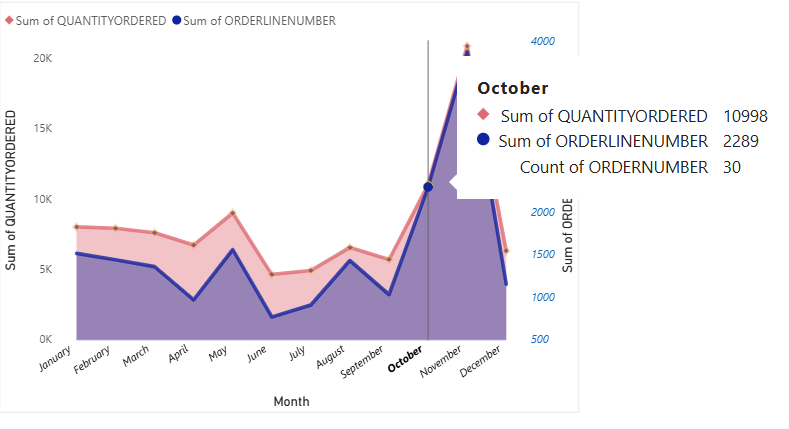

Layout of this report page (visuals, bound fields, positions):
{"tool":"powerbi","page":{"name":"dashboard","canvas":[1280,720],"ordinal":0},"visuals":[{"type":"areaChart","fields":{"Category":["Sales_Data1.ORDERDATE.1.Variation.Date Hierarchy.Month"],"Y":["Sum(Sales_Data1.QUANTITYORDERED)"],"Y2":["Sum(Sales_Data1.ORDERLINENUMBER)"]},"box":[300.5,181.1,636.7,451.5],"z":0}]}

Visuals, with their boxes on the page's 1280x720 design canvas (x1, y1, x2, y2). These are canvas units, not pixel positions in the 789x429 screenshot, which may show the page scaled, cropped or inside an application window:
areaChart - Sales_Data1.ORDERDATE.1.Variation.Date Hierarchy.Month x Sum(Sales_Data1.QUANTITYORDERED): bbox(300, 181, 937, 633)
